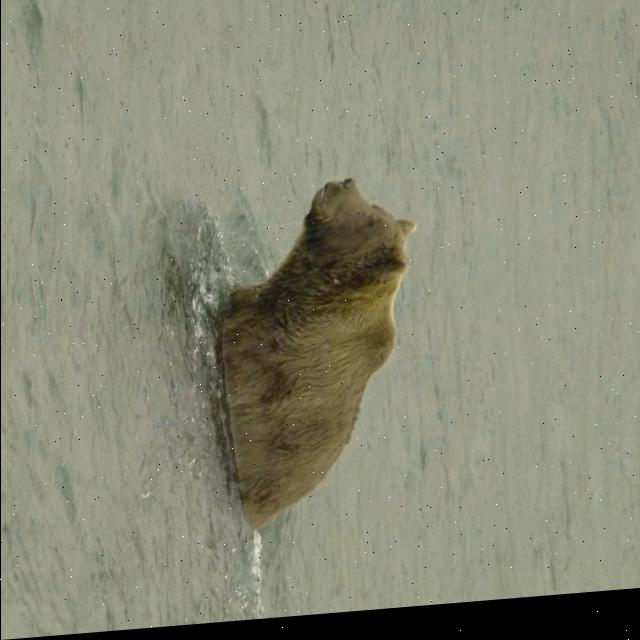bear face: (224, 177, 415, 527)
